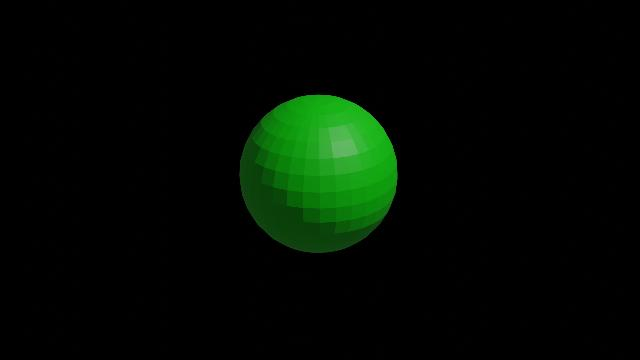Sphere: (232, 82, 408, 264)
